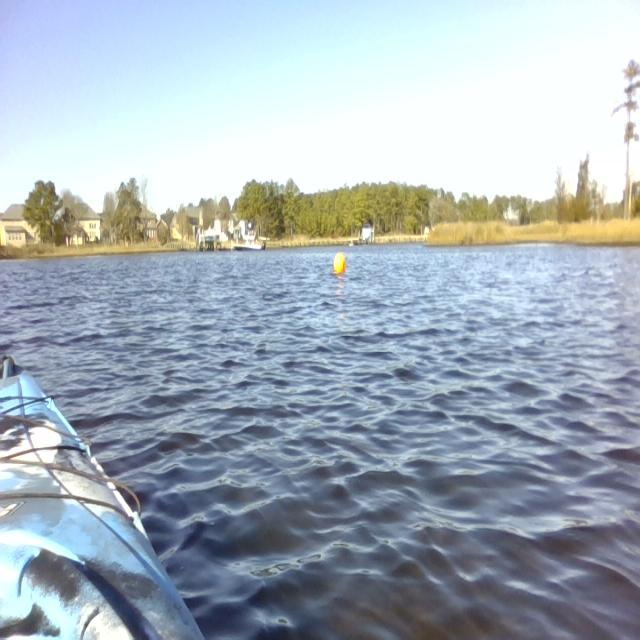Buoy: (331, 247, 348, 279)
